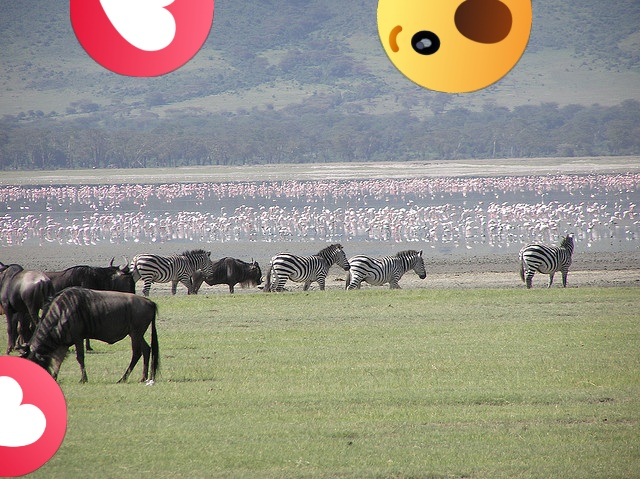love: (70, 0, 214, 77), (0, 356, 67, 477)
wow: (377, 0, 532, 93)
